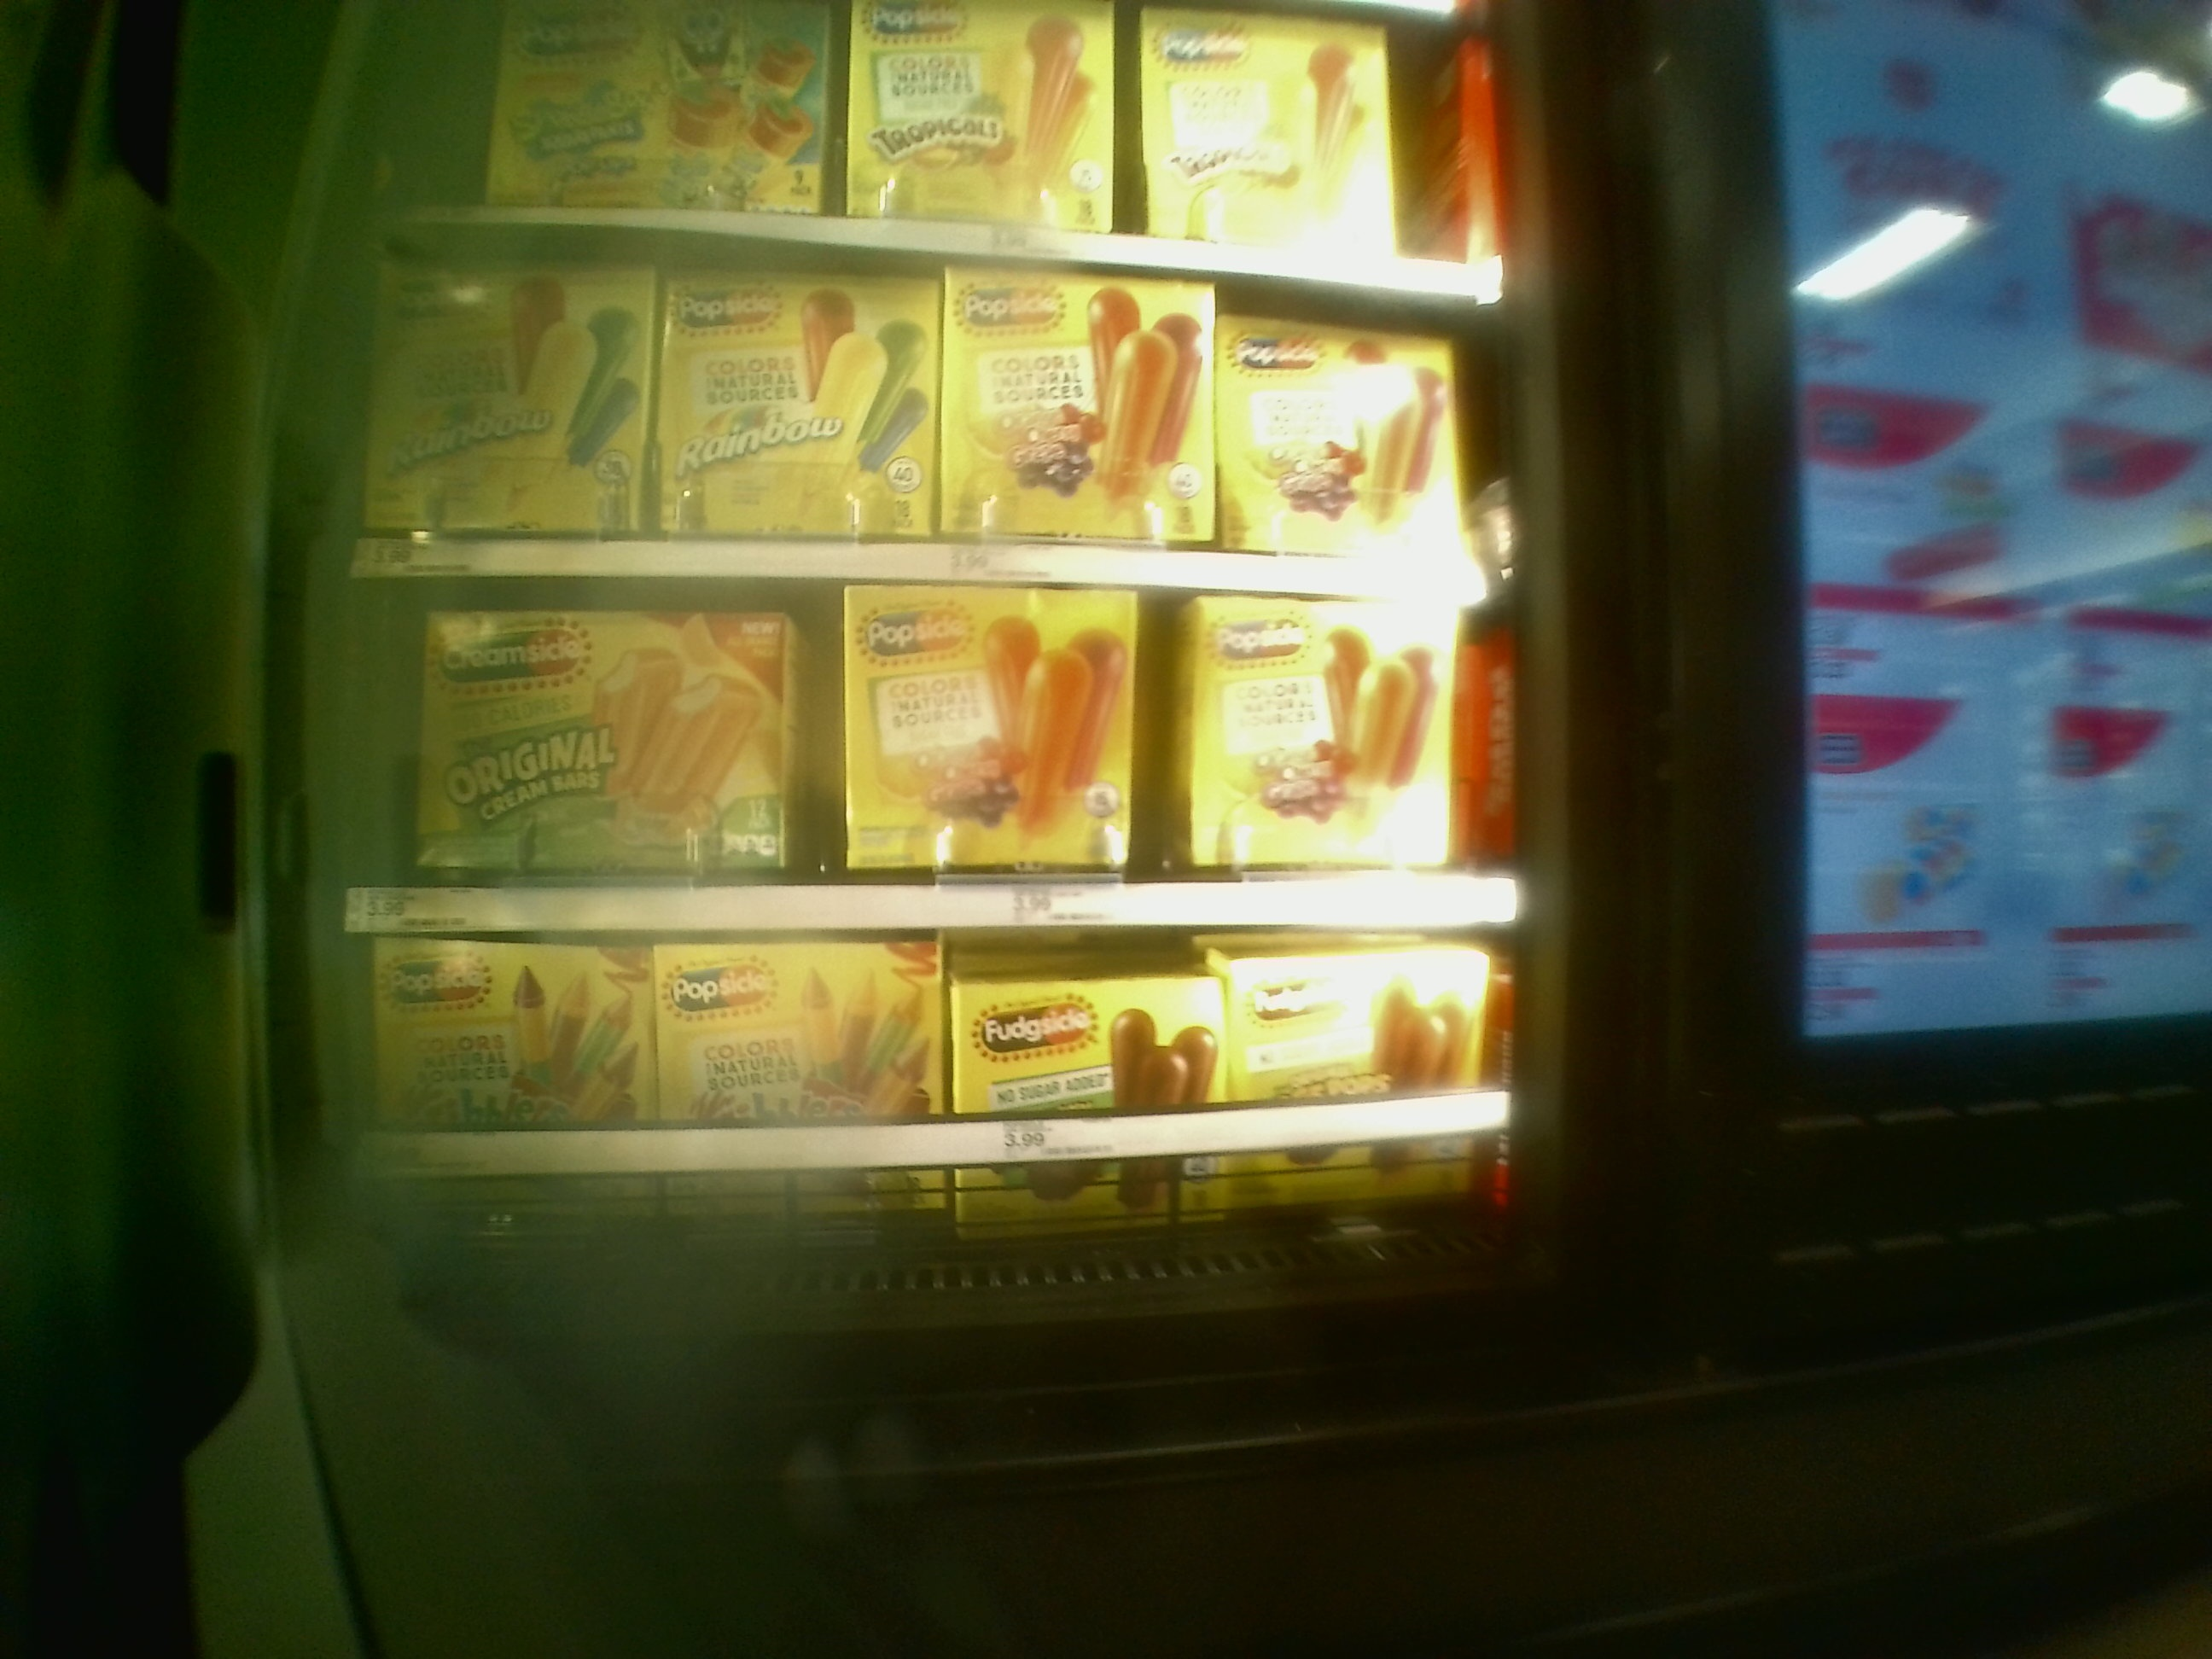shelf: (340, 572, 1519, 929), (347, 931, 1508, 1229)
